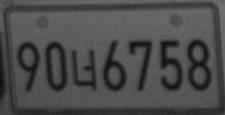0: (44, 40, 68, 91)
5: (159, 39, 183, 91)
6: (102, 40, 126, 91)
7: (128, 39, 153, 91)
8: (185, 38, 212, 91)
9: (16, 40, 40, 91)
너: (70, 48, 97, 90)
